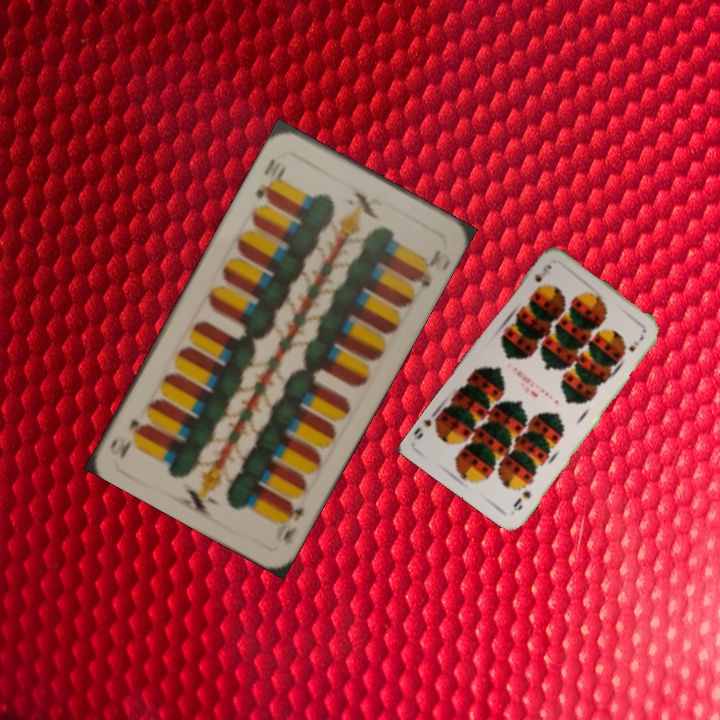E10: (251, 154, 289, 205), (271, 497, 307, 548)
S9: (509, 487, 533, 514), (531, 260, 554, 285)
